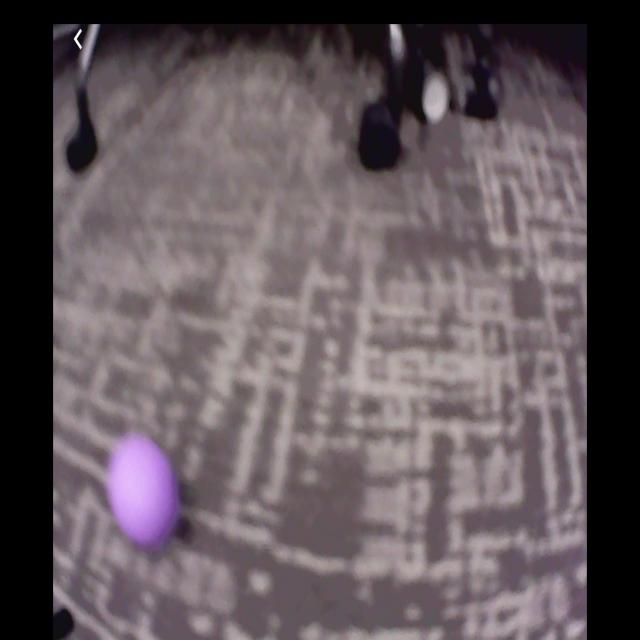ball: (110, 434, 179, 547)
